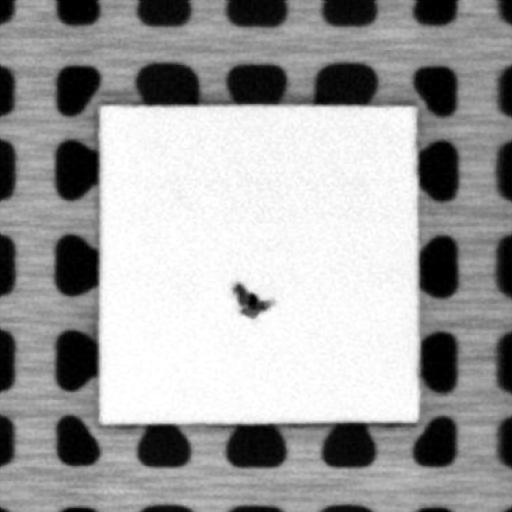DIE_INK: (230, 282, 274, 320)
